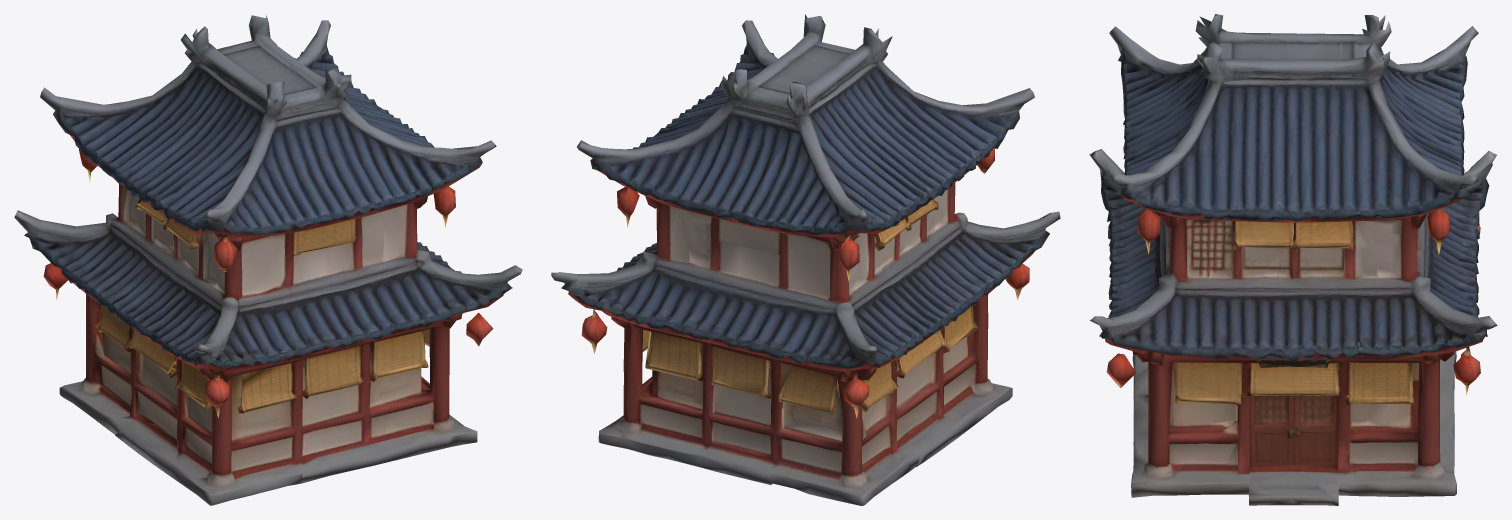
File: teahouse.glb
The picture shows the model from 3 angles, left to right: view 1: azimuth 30°, elevation 25°; view 2: azimuth 150°, elevation 25°; view 3: azimuth 270°, elevation 25°; orthographic projection. The views are drawn at different scales.
Visible parts, largest first — view 1: tripo_node_872914ec-bb0d-4315-ae48-ced6ff14950e; view 2: tripo_node_872914ec-bb0d-4315-ae48-ced6ff14950e; view 3: tripo_node_872914ec-bb0d-4315-ae48-ced6ff14950e.
Boxes of the visible parts, left/top/right/bottom form: tripo_node_872914ec-bb0d-4315-ae48-ced6ff14950e: left=14, top=15, right=522, bottom=505; tripo_node_872914ec-bb0d-4315-ae48-ced6ff14950e: left=551, top=14, right=1060, bottom=505; tripo_node_872914ec-bb0d-4315-ae48-ced6ff14950e: left=1089, top=14, right=1497, bottom=505.
Bounding box in the file's own units: 0.9153 × 1 × 0.9231.
Materials: 1 (1 with a texture image).
